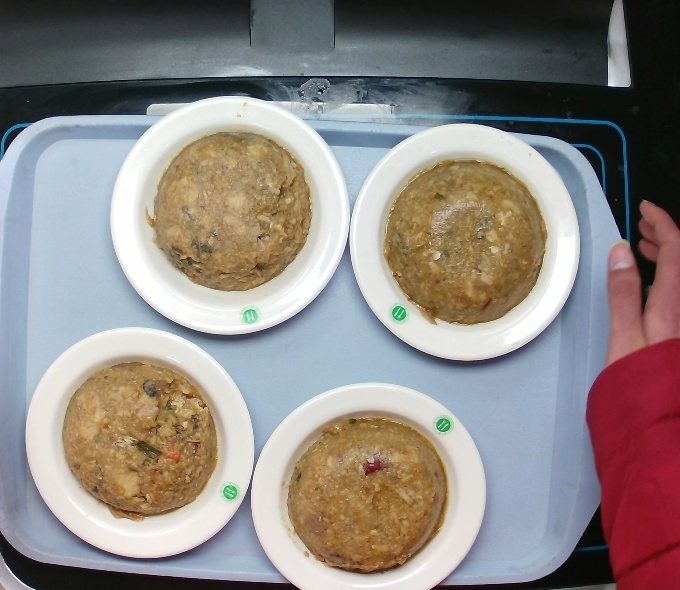wcq-YuDong: (134, 116, 324, 306), (281, 408, 453, 584), (58, 351, 222, 527), (382, 155, 549, 325)
